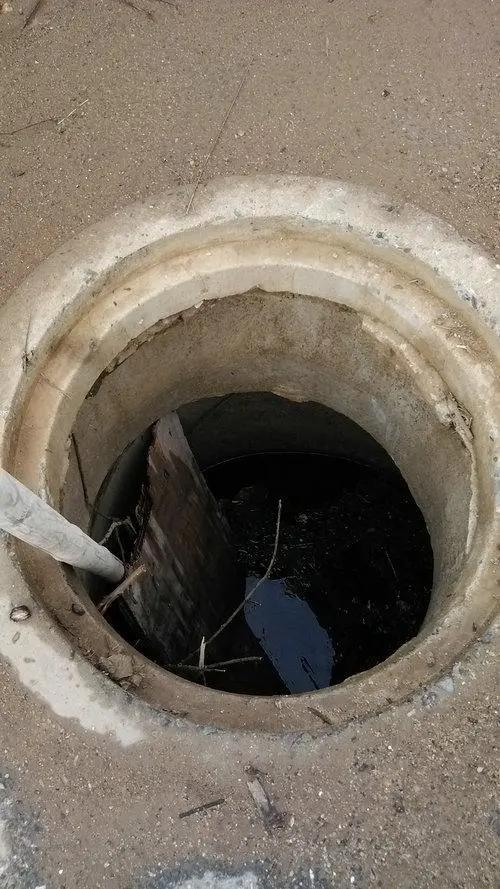wellcover: (0, 227, 500, 750)
